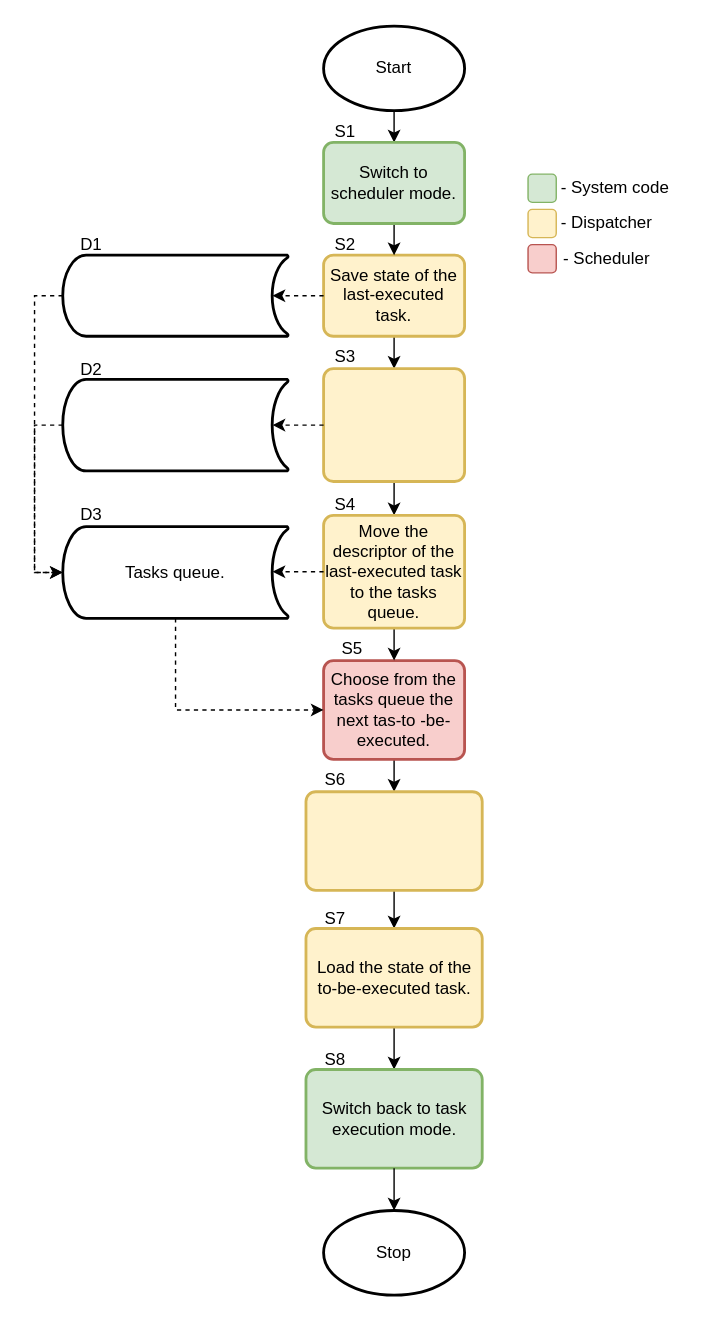
Image size: 711x1320. Some labels were removed from this diagram. Here are the shapes that lost their labels. From the top down, the centre of each, then its label:
At (175,295): "Descriptor with the state of the currently-executed task.".
At (175,424): "Descriptor with the meta-data of the currently-executed task.".
At (393,424): "Save meta-data of the last-executed task.".
At (393,840): "Move the descriptor of the task-to-be-executed out of the tasks queue".
